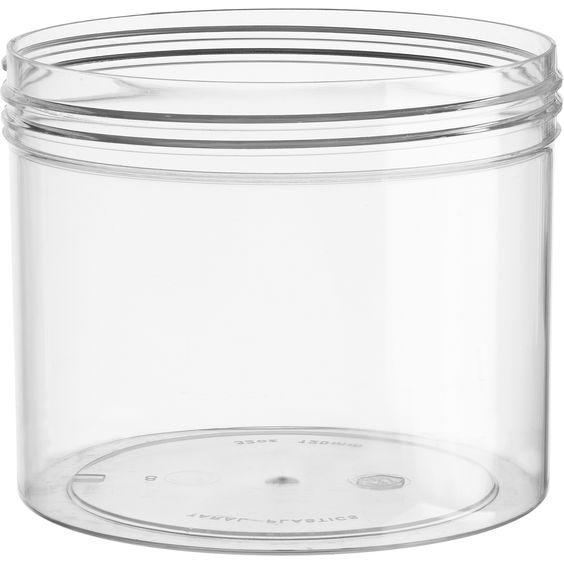PS: (0, 6, 560, 554)
